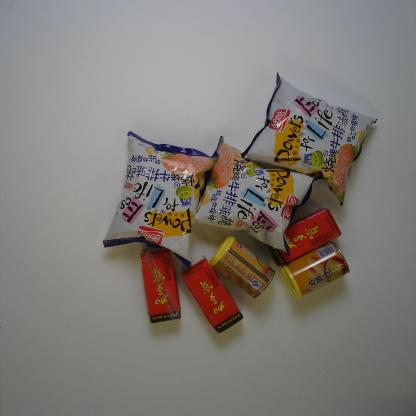Canned Food: (208, 235, 276, 300), (280, 242, 350, 300)
Drink: (180, 254, 244, 334), (267, 207, 343, 268), (139, 246, 182, 324)
Puffed Food: (240, 72, 380, 206), (102, 130, 220, 268), (191, 134, 317, 257)
